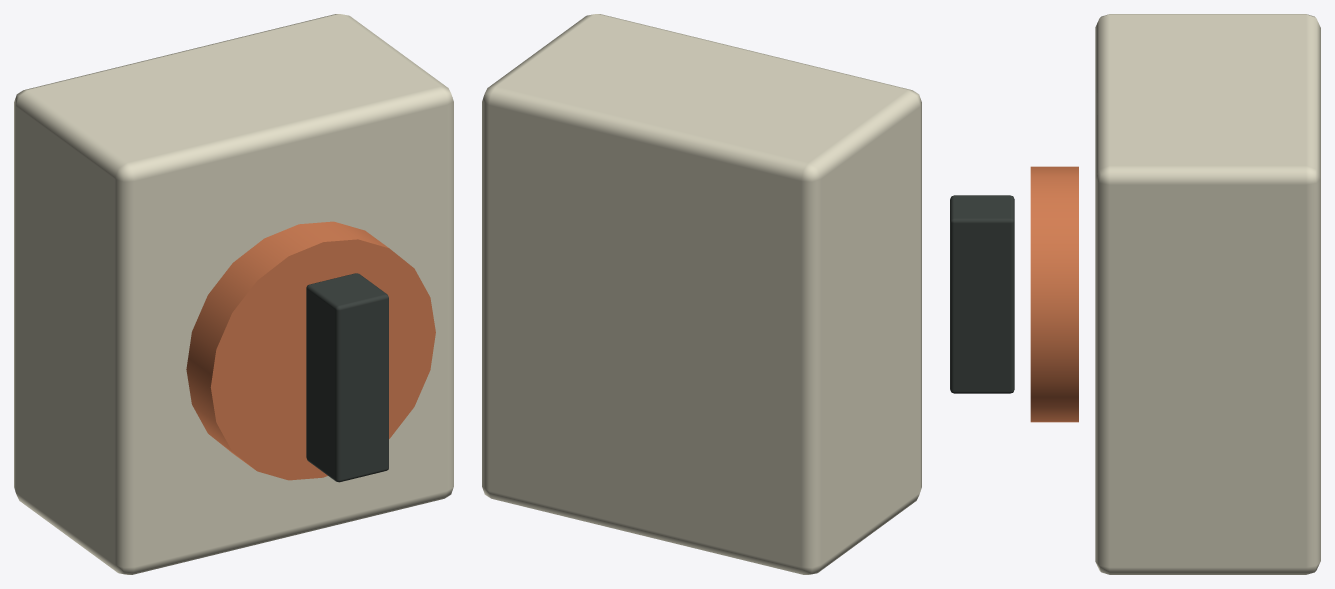
The model's file is off-grid-power-and-controls-rotary-isolator-509afd6e__3008.glb.
3 renders of one model, left to right at view 1: azimuth 30°, elevation 25°; view 2: azimuth 150°, elevation 25°; view 3: azimuth 270°, elevation 25°, orthographic.
Parts seen in each view (by area): view 1: rotary-isolator, handle/dark; view 2: rotary-isolator; view 3: rotary-isolator, handle/dark.
Boxes of the visible parts, bbox=[...] form: rotary-isolator: bbox=[14, 14, 453, 574]; handle/dark: bbox=[306, 273, 388, 482]; rotary-isolator: bbox=[482, 14, 921, 574]; rotary-isolator: bbox=[1030, 14, 1320, 574]; handle/dark: bbox=[950, 195, 1014, 393].
Size of the model in its own units: 0.12 by 0.14 by 0.115.
